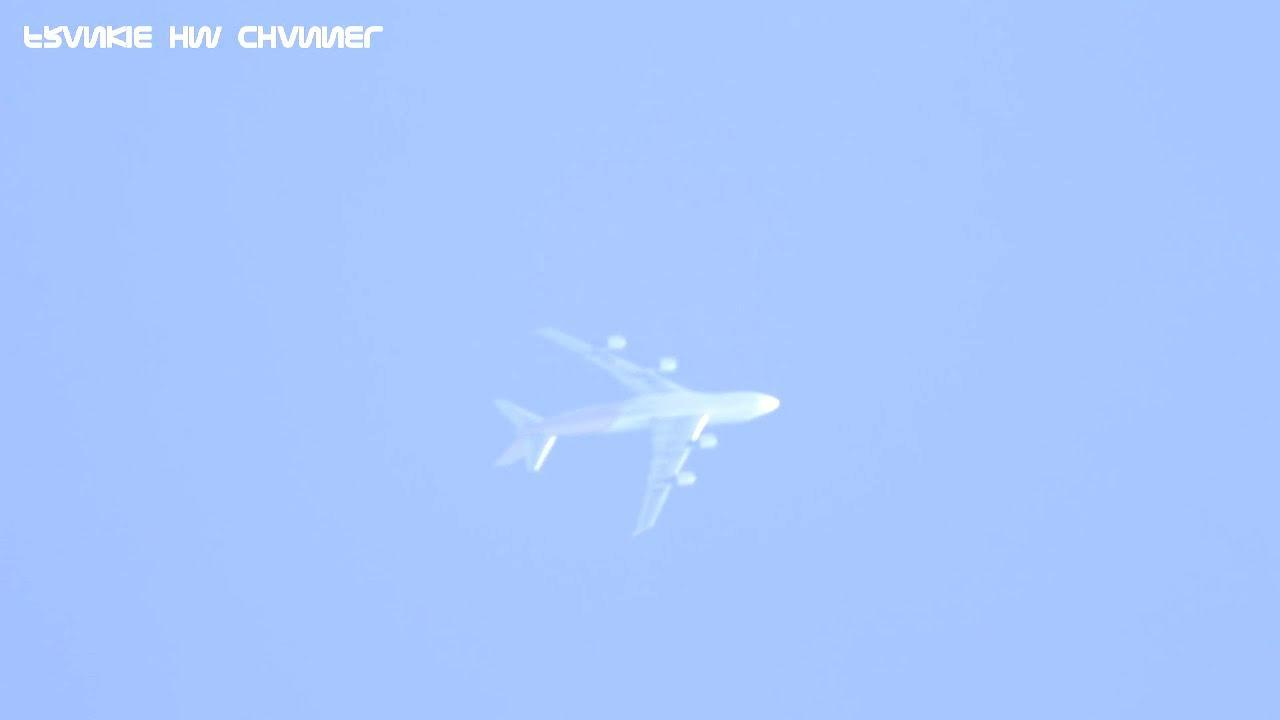Plane: (425, 307, 857, 545)
